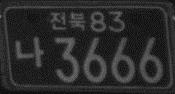3: (53, 36, 79, 84), (108, 10, 124, 33)
6: (138, 34, 166, 84), (110, 36, 136, 84), (83, 37, 107, 84)
8: (90, 10, 106, 33)
나: (14, 35, 45, 68)
전북_O: (49, 11, 87, 32)
